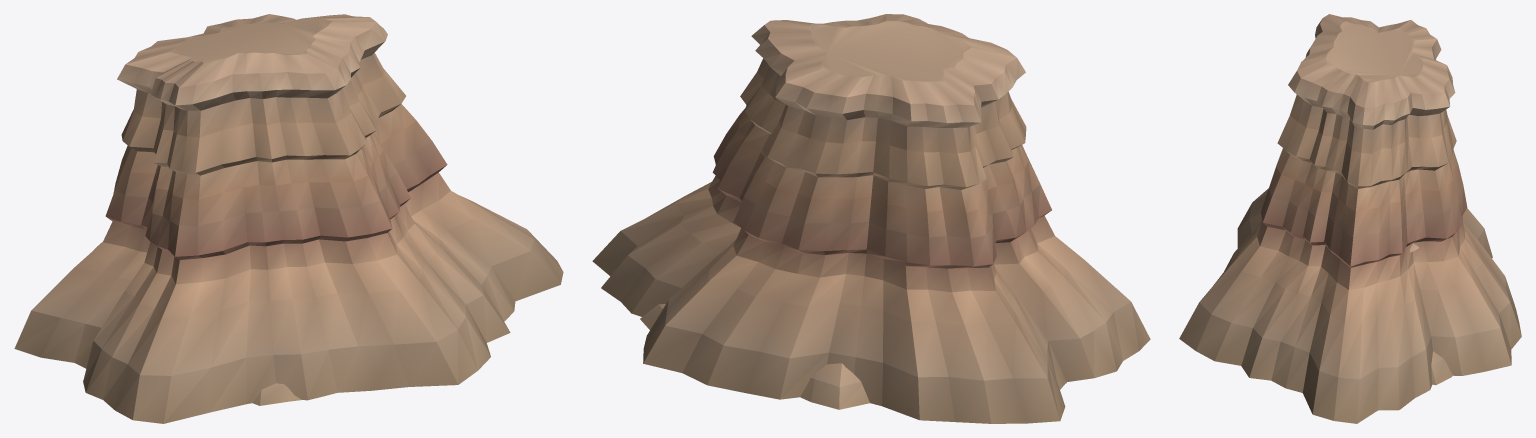
Rendered from frontier-landmarks.glb.
The picture shows the model from 3 angles, left to right: view 1: azimuth 30°, elevation 25°; view 2: azimuth 150°, elevation 25°; view 3: azimuth 270°, elevation 25°; orthographic projection. The views are drawn at different scales.
Visible parts, largest first — view 1: Layered butte, Bedded bench; view 2: Layered butte, Bedded bench; view 3: Layered butte, Bedded bench.
Part boxes in pixels (x1,y1,x2,y2): Layered butte: (14, 14, 563, 423); Bedded bench: (86, 316, 509, 405); Layered butte: (592, 14, 1150, 423); Bedded bench: (640, 304, 1066, 409); Layered butte: (1179, 14, 1521, 423); Bedded bench: (1278, 244, 1452, 385).
Bounding box in the file's own units: 40.67 × 22.95 × 28.02.
